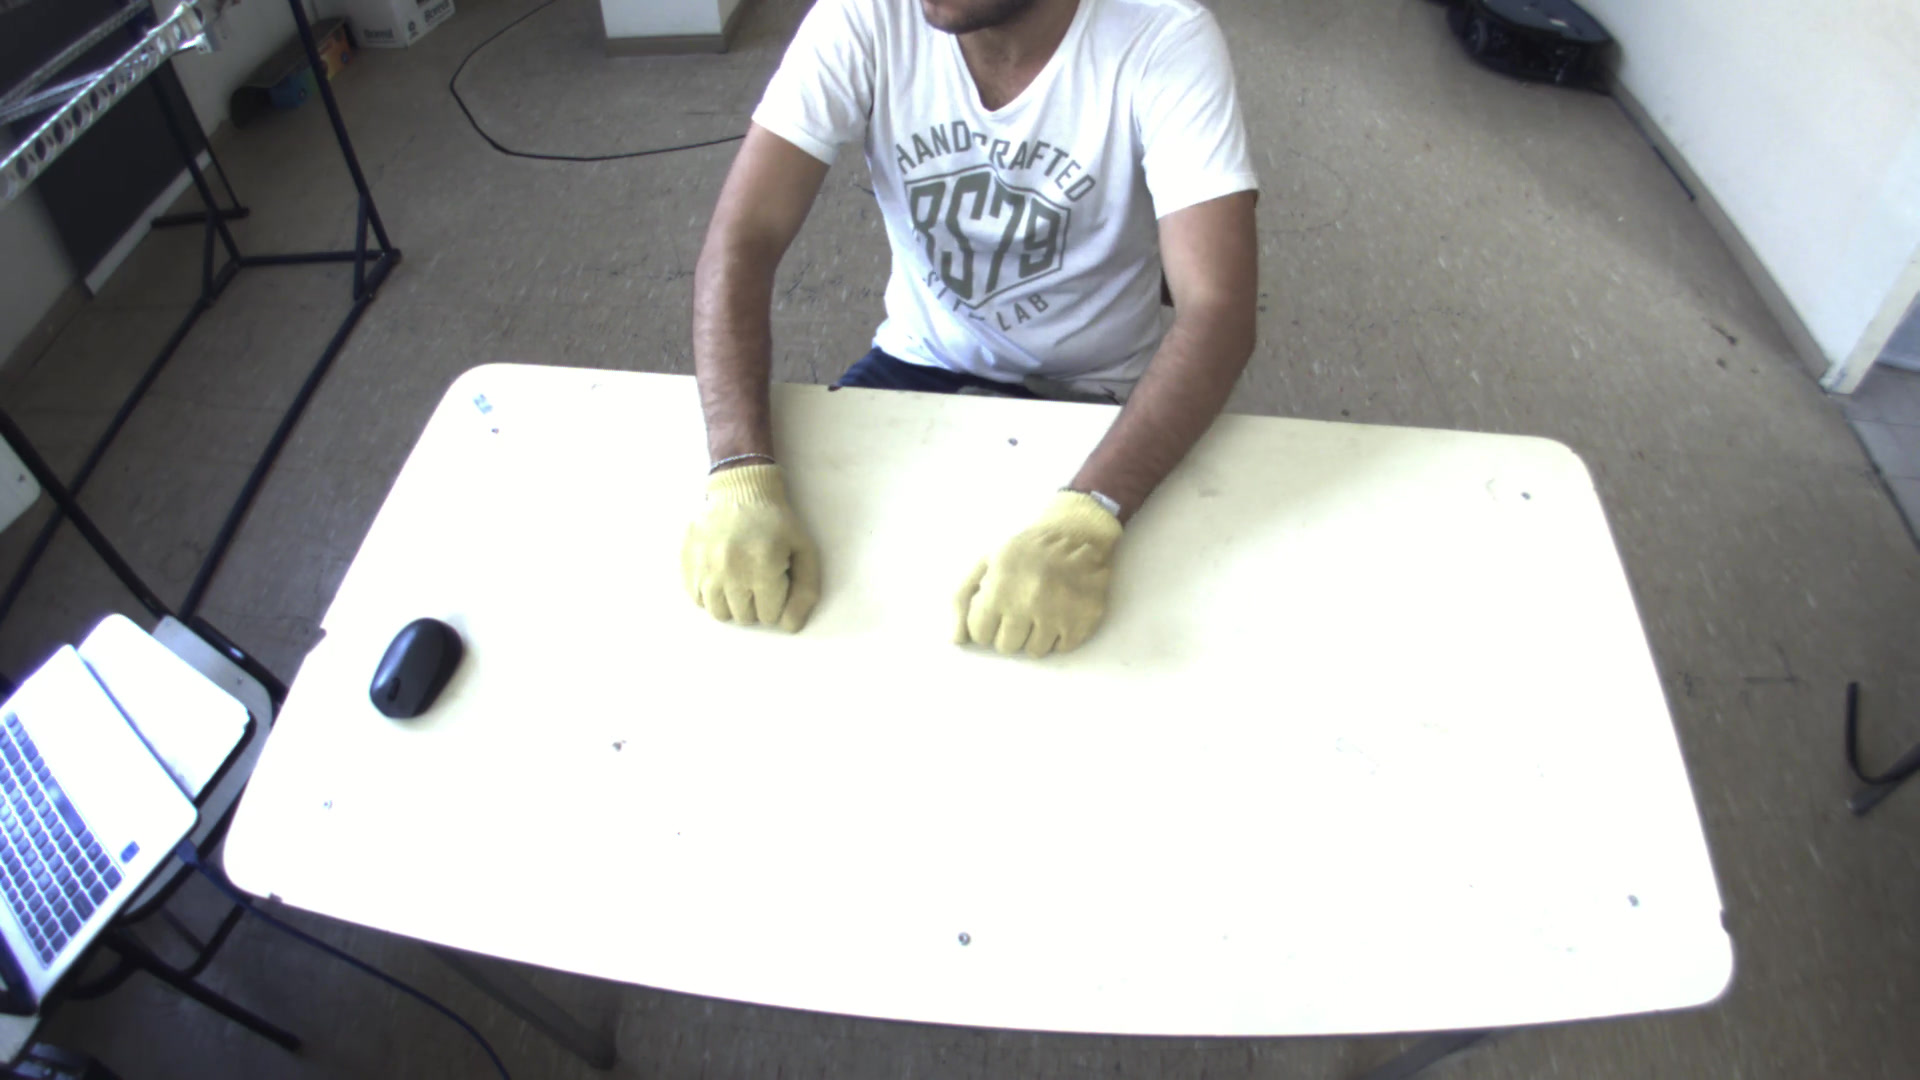hand: (944, 479, 1138, 665), (662, 450, 831, 641)
